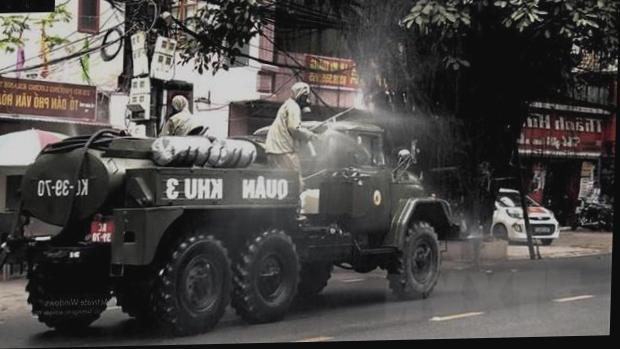License_Plate: (87, 218, 116, 246), (532, 226, 551, 235)
